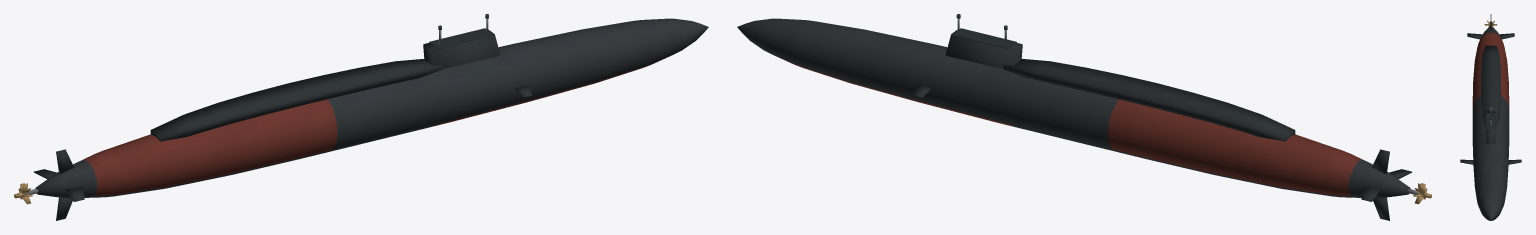
The model's file is RU_SSBN_Hotel_LOD2.fbx.
The picture shows the model from 3 angles, left to right: view 1: azimuth 30°, elevation 25°; view 2: azimuth 150°, elevation 25°; view 3: azimuth 270°, elevation 25°; orthographic projection. The views are drawn at different scales.
Parts seen in each view (by area): view 1: RU_SSBN_Hotel_LOD2; view 2: RU_SSBN_Hotel_LOD2; view 3: RU_SSBN_Hotel_LOD2.
Part boxes in pixels (x1=…): RU_SSBN_Hotel_LOD2: x1=14, y1=14, x2=708, y2=220; RU_SSBN_Hotel_LOD2: x1=737, y1=14, x2=1431, y2=220; RU_SSBN_Hotel_LOD2: x1=1460, y1=14, x2=1521, y2=220.
Bounding box in the file's own units: 118 × 15.38 × 16.35.
Materials: 6 (1 with a texture image).
